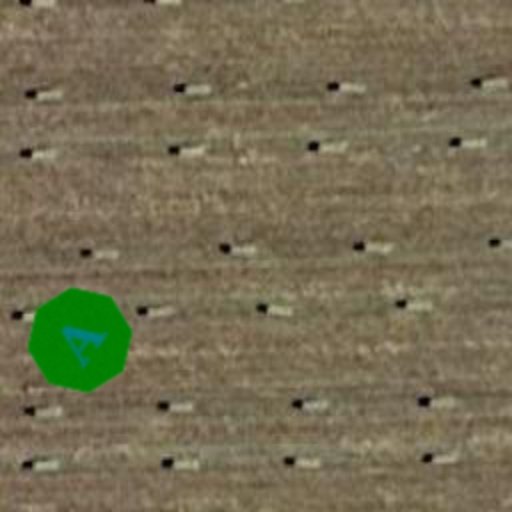octagon: (4, 264, 156, 416)
